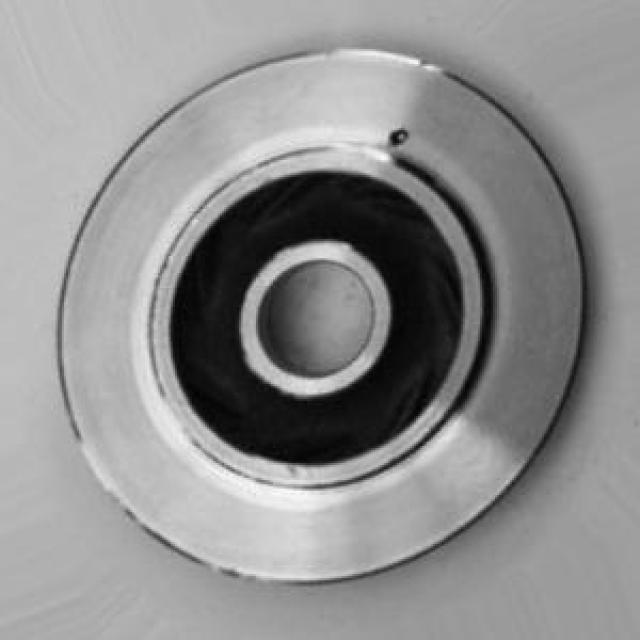Defect: (384, 122, 419, 154)
